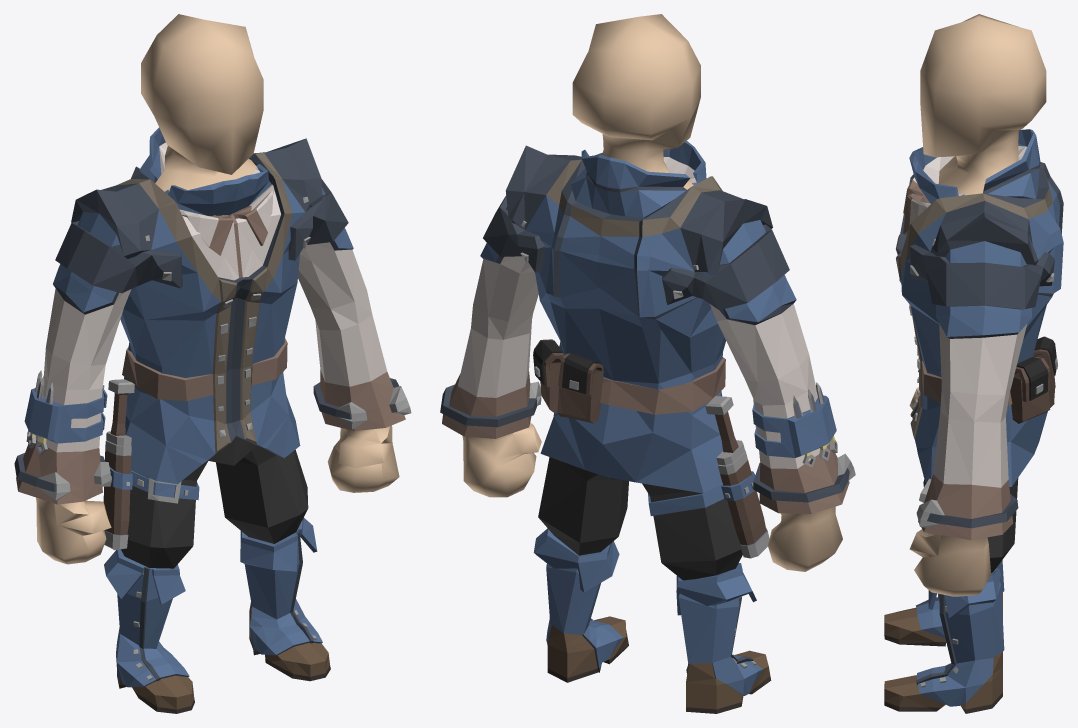
File: ARMOR_NobleRogue.fbx
3 views of the same model, side by side, from view 1: azimuth 30°, elevation 25°; view 2: azimuth 150°, elevation 25°; view 3: azimuth 270°, elevation 25° (orthographic). The views are drawn at different scales.
Visible parts, largest first — view 1: ARMOR_NobleRogue_05color:noble_rogue_outfit, ARMOR_NobleRogue_05color:proxy_body; view 2: ARMOR_NobleRogue_05color:noble_rogue_outfit, ARMOR_NobleRogue_05color:proxy_body; view 3: ARMOR_NobleRogue_05color:noble_rogue_outfit, ARMOR_NobleRogue_05color:proxy_body.
Boxes of the visible parts, x1=… form: ARMOR_NobleRogue_05color:noble_rogue_outfit: x1=14, y1=127, x2=411, y2=713; ARMOR_NobleRogue_05color:proxy_body: x1=36, y1=14, x2=399, y2=564; ARMOR_NobleRogue_05color:noble_rogue_outfit: x1=440, y1=141, x2=855, y2=713; ARMOR_NobleRogue_05color:proxy_body: x1=462, y1=14, x2=842, y2=571; ARMOR_NobleRogue_05color:noble_rogue_outfit: x1=884, y1=129, x2=1063, y2=713; ARMOR_NobleRogue_05color:proxy_body: x1=909, y1=14, x2=1046, y2=596.
Bounding box in the file's own units: 547 × 877 × 219.
